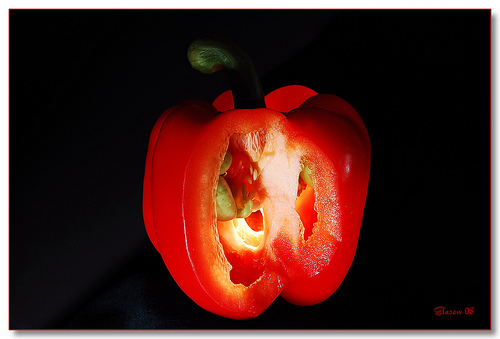capsicum: (140, 39, 374, 322)
